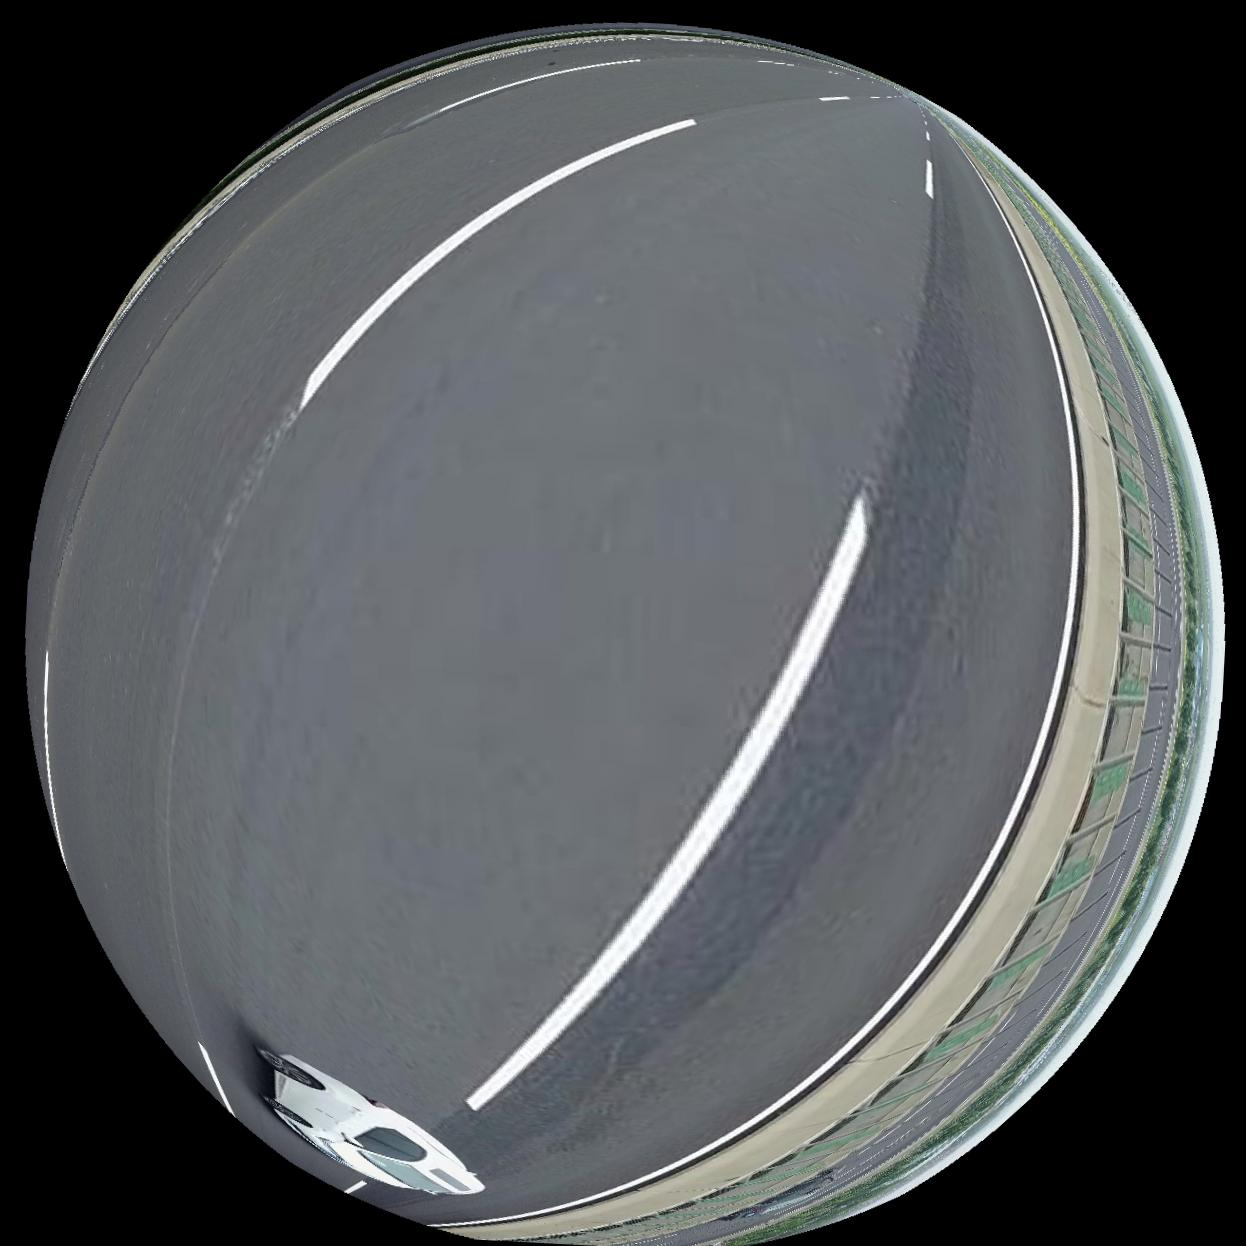cars: (256, 1050, 482, 1197)
